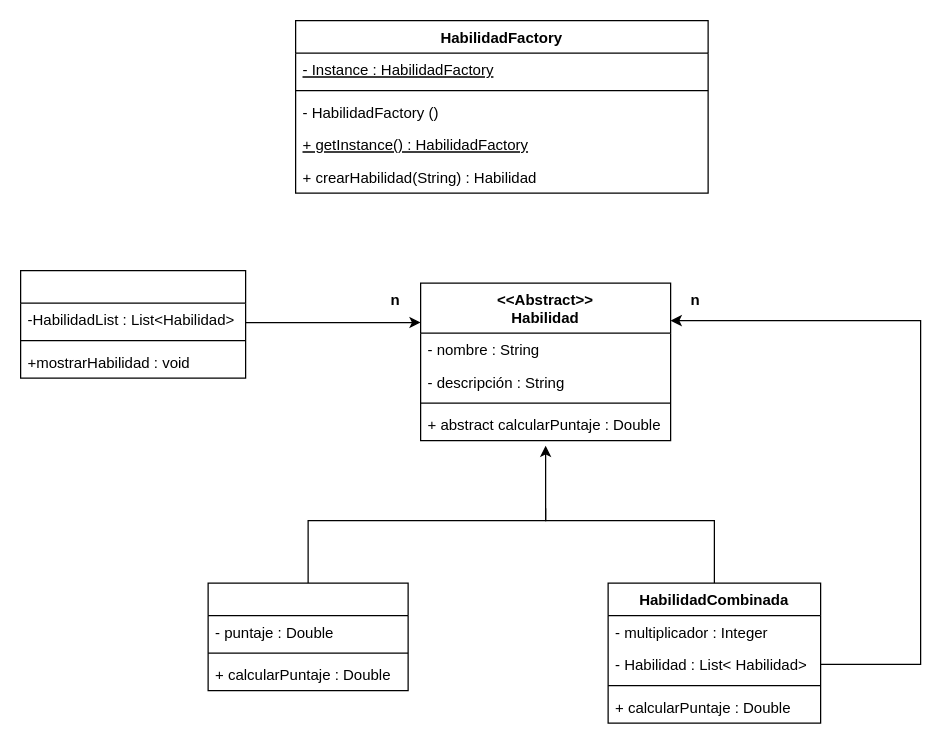
Image size: 941x744. Some labels were removed from this diagram. The box of each missing label's shape, as (x1, y1, x2, y2) in pixels:
HabilidadSimple: (207, 582, 408, 691)
Personaje: (19, 269, 246, 378)
